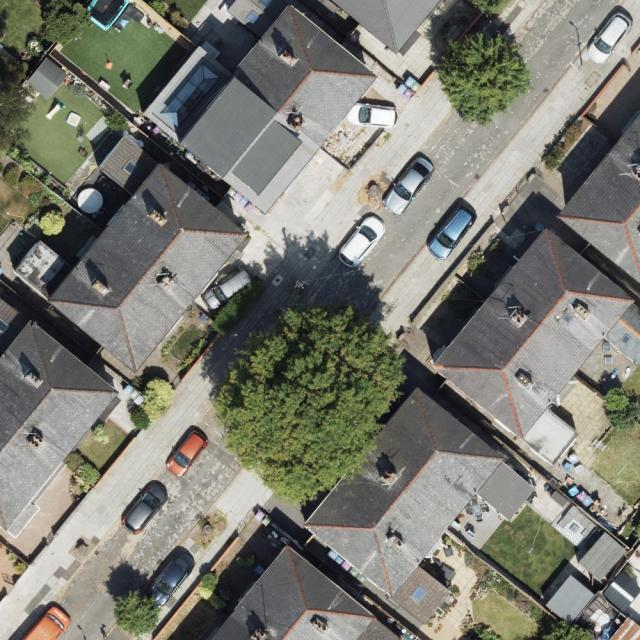roof: (14, 131, 252, 374), (305, 384, 539, 624), (143, 0, 381, 218), (428, 226, 640, 469), (0, 300, 118, 533), (207, 543, 406, 640), (557, 107, 640, 284), (329, 0, 443, 58)
skylight: (158, 63, 221, 130), (408, 583, 430, 606), (243, 8, 264, 28), (121, 160, 138, 176), (561, 314, 576, 325), (620, 331, 631, 345), (257, 0, 273, 7)
